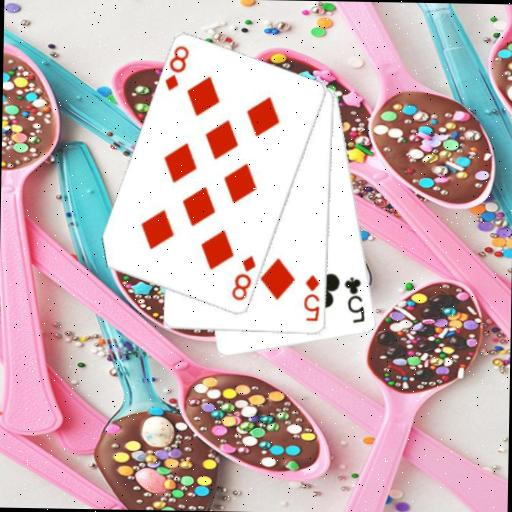5C: (342, 274, 368, 325)
5D: (301, 272, 322, 323)
8D: (228, 252, 258, 303), (162, 43, 191, 94)
